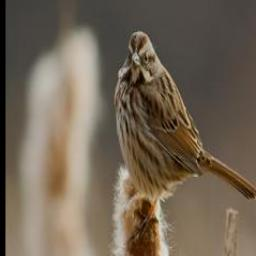Sparrow: (112, 28, 256, 248)
